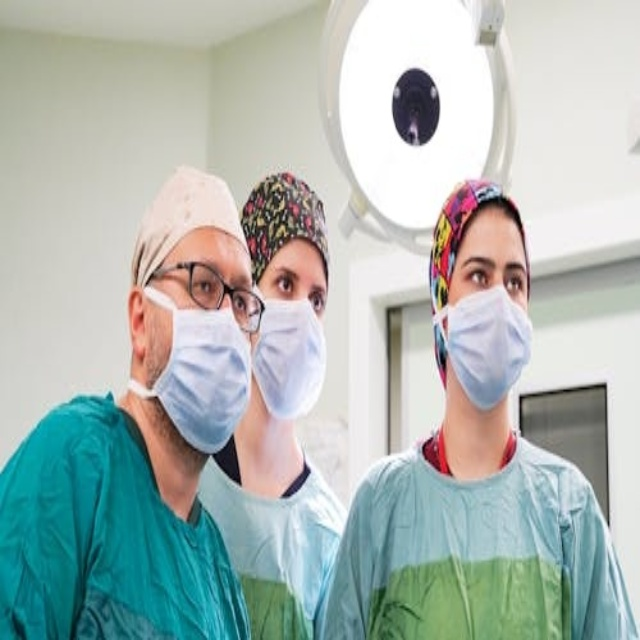Gafas: (149, 261, 265, 333)
Mascara: (136, 287, 253, 450), (438, 285, 533, 409), (246, 293, 325, 419)
Sin_gafas: (454, 239, 527, 307), (265, 260, 326, 321)
